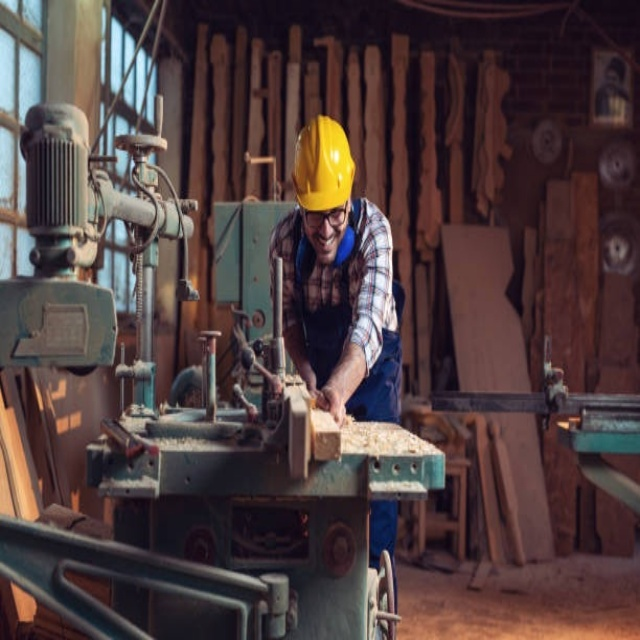Gafas: (303, 199, 349, 230)
Sin_mascara: (315, 232, 337, 259)
